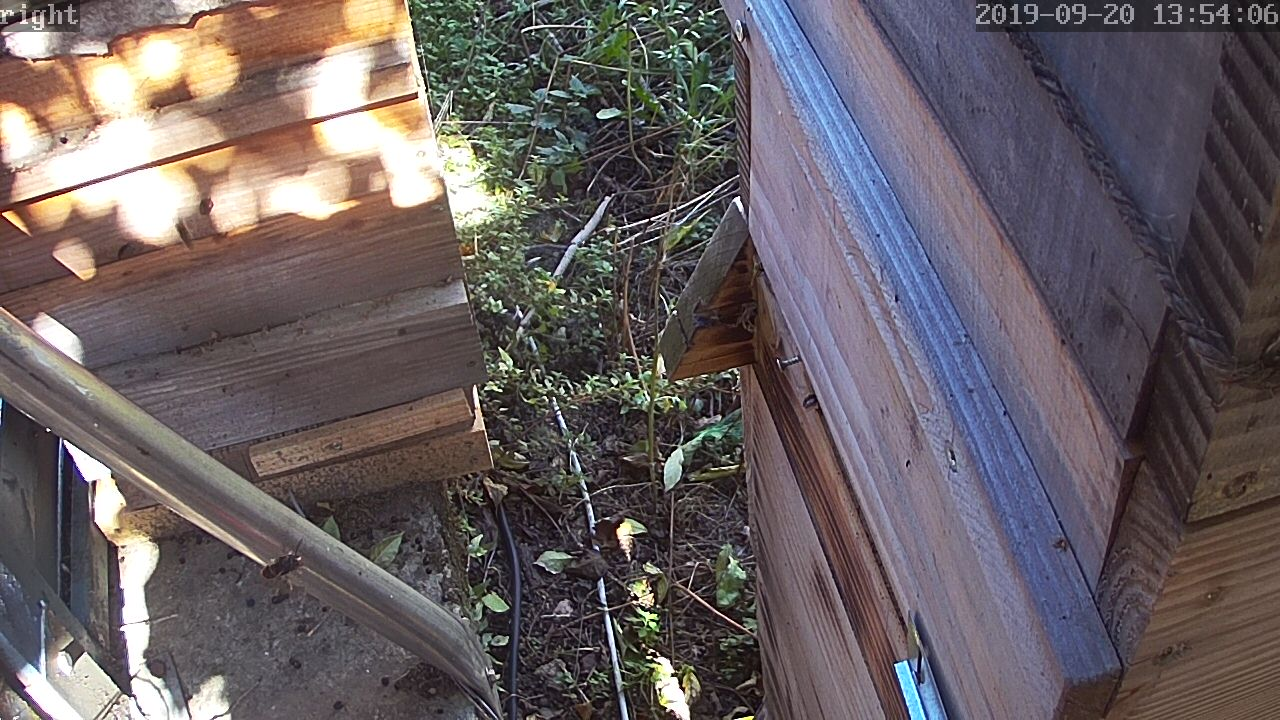hornet: (250, 549, 315, 586)
